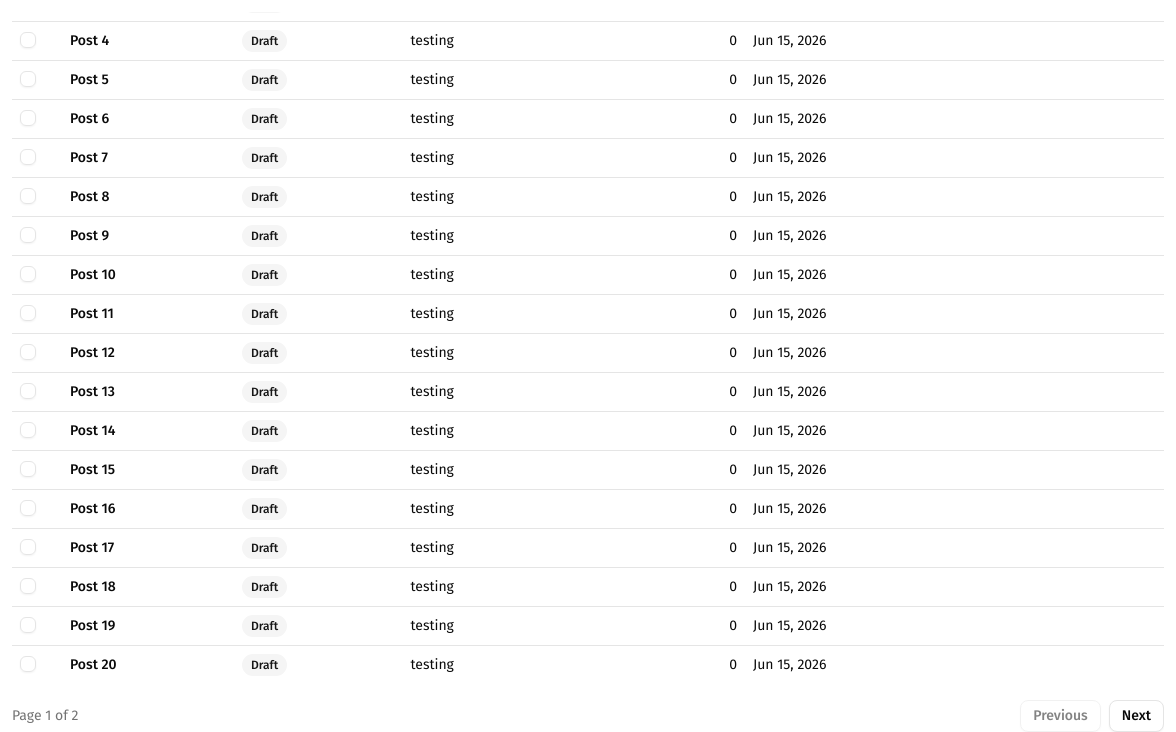
BlogPostList › Pagination › should navigate to previous page
This screenshot has width=1176, height=732.
Go to page 2
Click the button "Next": (1136, 716) left=1109, top=700, right=1164, bottom=731
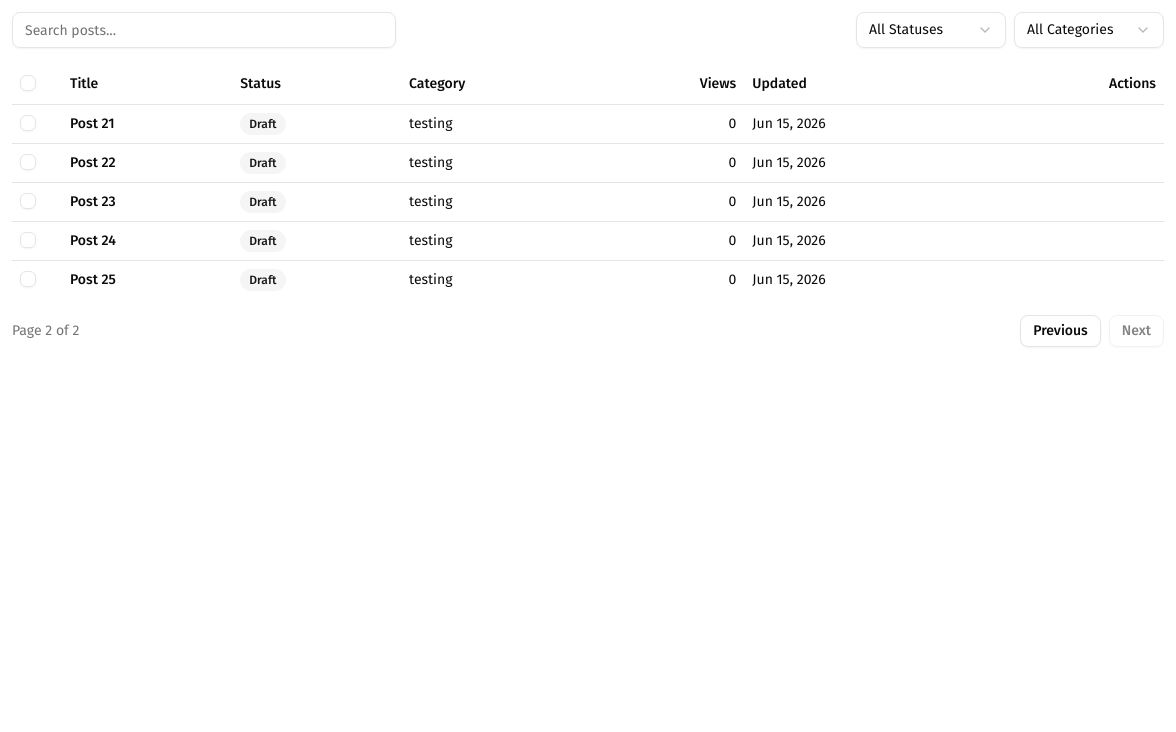
Go back to page 1
Click the button "Previous": (1060, 330) left=1020, top=314, right=1101, bottom=346
(page scrolled)
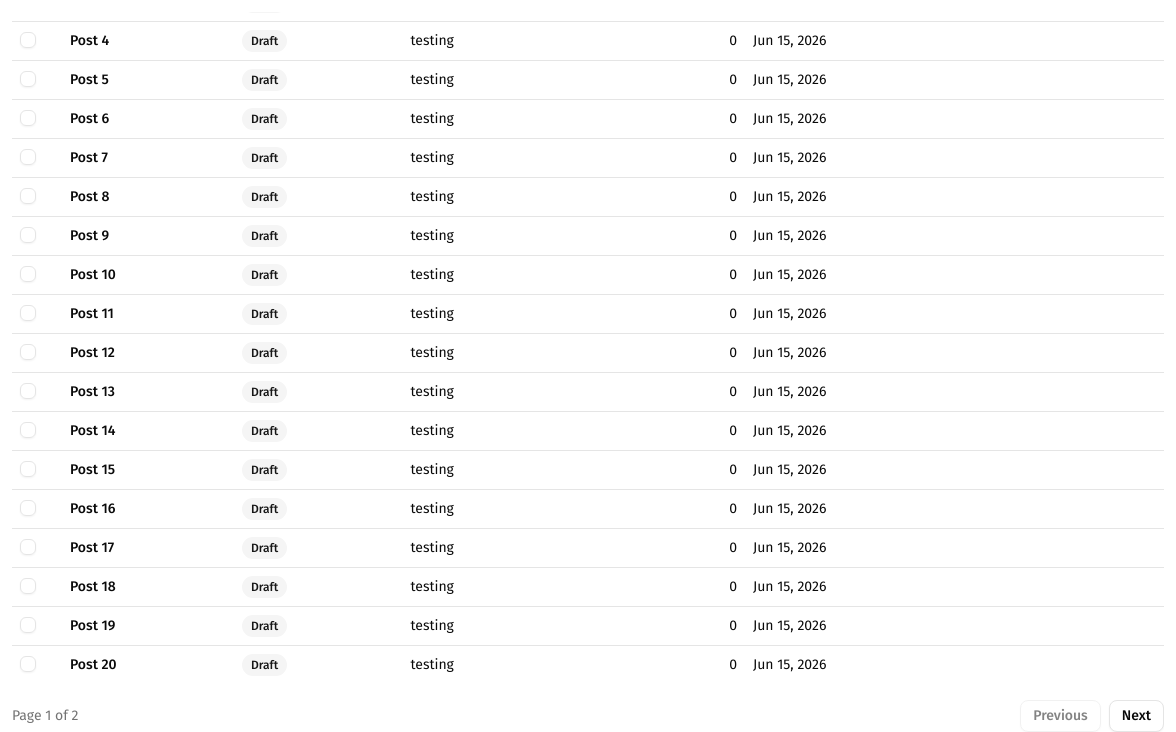
Expected: the text "Post 20" is shown, left=62, top=645, right=234, bottom=684
Expected: the text "Post 21" is gone
Expected: the text "Page 1 of 2" is shown, left=12, top=706, right=78, bottom=726
